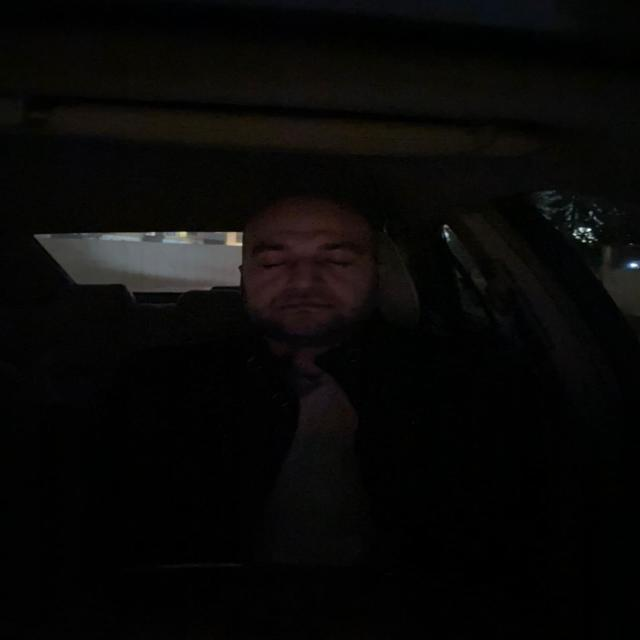drowsy: (226, 179, 404, 352)
